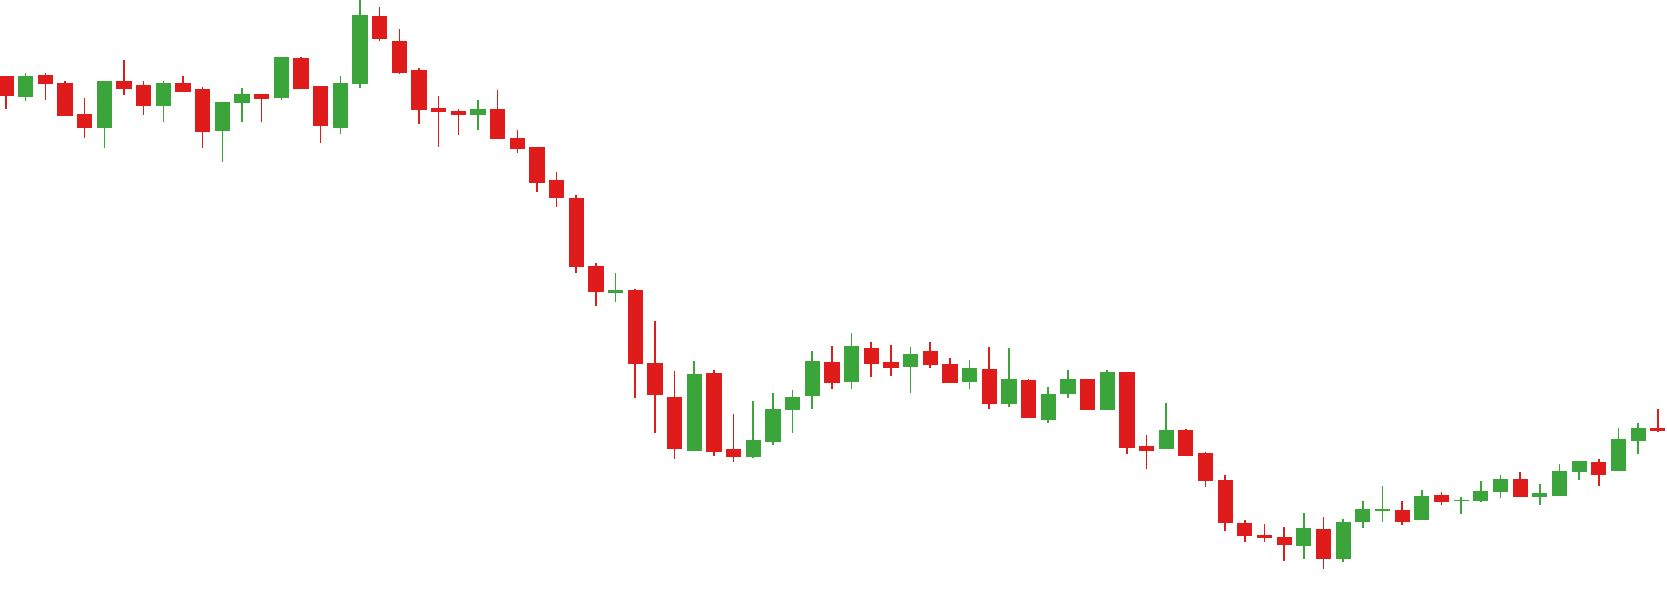sell: (271, 3, 411, 103)
